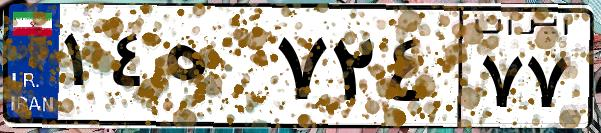1: (57, 26, 110, 100)
2: (330, 28, 385, 110)
4: (385, 28, 445, 110), (110, 28, 158, 98)
7: (270, 28, 330, 110), (475, 38, 525, 113), (525, 38, 570, 115)
ه: (158, 20, 270, 120)
